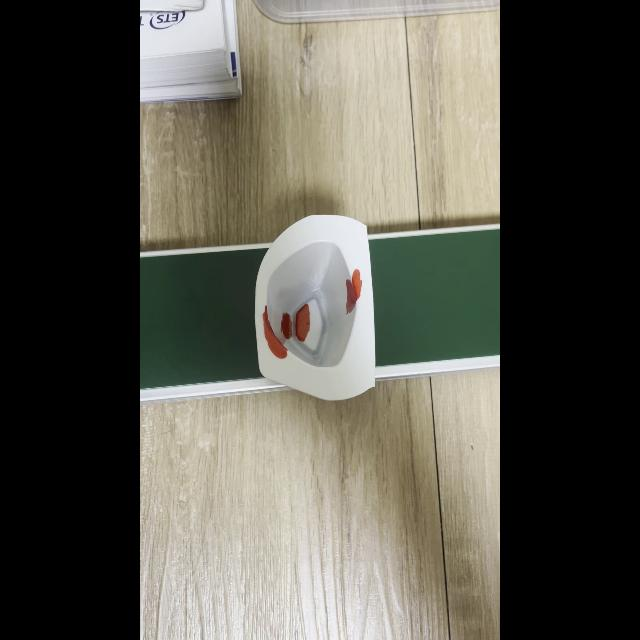dirty: (254, 215, 376, 398)
